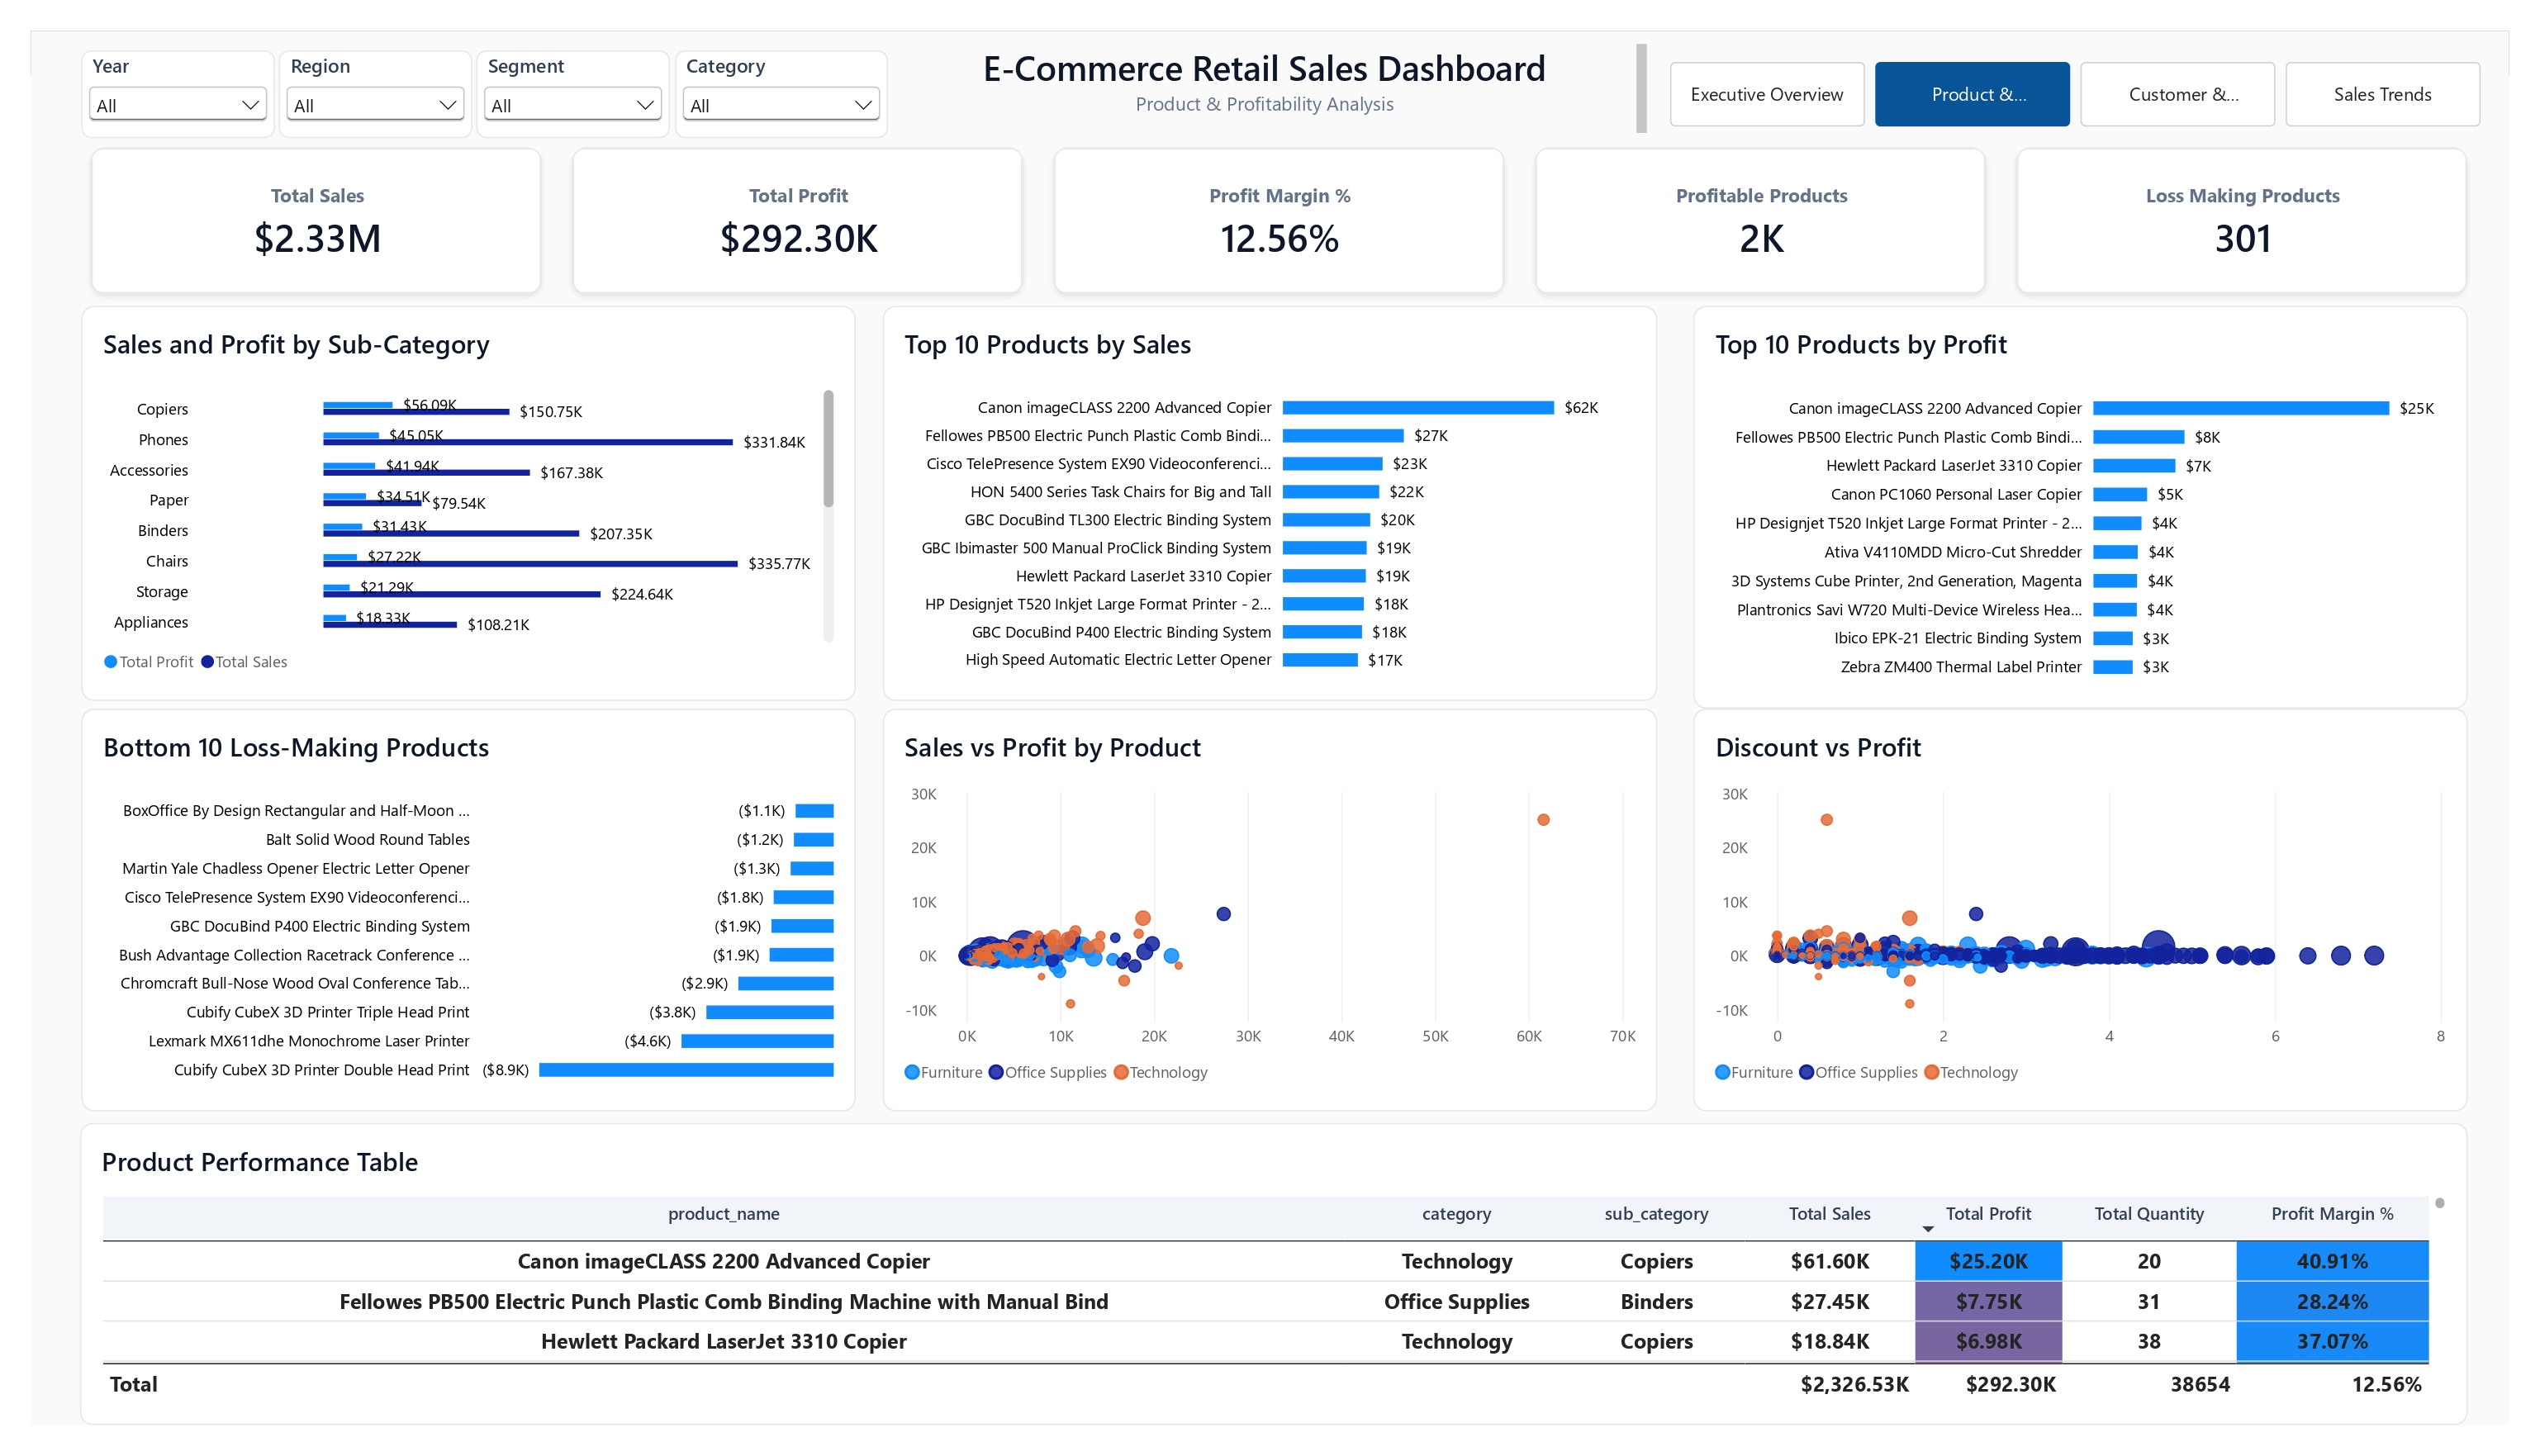

The page's visual inventory and layout, read from the dashboard file:
{"tool":"powerbi","page":{"name":"Product & Profitability","canvas":[1920,1080],"ordinal":1},"visuals":[{"type":"textbox","box":[667.8,10,584.5,72],"z":0},{"type":"clusteredBarChart","title":"Sales and Profit by Sub-Category","fields":{"Category":["superstore_cleaned.sub_category"],"Y":["_Measures.Total Profit","_Measures.Total Sales"]},"box":[39,213,600,306],"z":1000},{"type":"clusteredBarChart","title":"Top 10 Products by Sales","fields":{"Category":["superstore_cleaned.product_name"],"Y":["_Measures.Total Sales"]},"box":[660,213,600,306],"z":2000},{"type":"clusteredBarChart","title":"Top 10 Products by Profit","fields":{"Category":["superstore_cleaned.product_name"],"Y":["_Measures.Total Profit"]},"box":[1288,213,600,312],"z":3000},{"type":"clusteredBarChart","title":"Bottom 10 Loss-Making Products","fields":{"Category":["superstore_cleaned.product_name"],"Y":["_Measures.Total Profit"]},"box":[38.8,525.4,600,312],"z":4000},{"type":"scatterChart","title":"Discount vs Profit","fields":{"Category":["superstore_cleaned.product_name"],"Series":["superstore_cleaned.category"],"Size":["Sum(superstore_cleaned.quantity)"],"X":["Sum(superstore_cleaned.discount)"],"Y":["Sum(superstore_cleaned.profit)"]},"box":[1287.5,525.4,600,312],"z":5000},{"type":"scatterChart","title":"Sales vs Profit by Product","fields":{"Category":["superstore_cleaned.product_name"],"Series":["superstore_cleaned.category"],"Size":["Sum(superstore_cleaned.quantity)"],"X":["superstore_cleaned.sales"],"Y":["Sum(superstore_cleaned.profit)"]},"box":[660,525.4,600,312],"z":6000},{"type":"cardVisual","fields":{"Data":["_Measures.Total Sales"]},"box":[46,90,350,114],"z":7000},{"type":"cardVisual","fields":{"Data":["_Measures.Total Profit"]},"box":[419,90,350,114],"z":8000},{"type":"cardVisual","fields":{"Data":["_Measures.Loss Making Products"]},"box":[1538,90,350,114],"z":9000},{"type":"cardVisual","fields":{"Data":["_Measures.Profitable Products"]},"box":[1165,90,350,114],"z":10000},{"type":"tableEx","title":"Product Performance Table","fields":{"Values":["superstore_cleaned.product_name","superstore_cleaned.category","superstore_cleaned.sub_category","_Measures.Total Sales","_Measures.Total Profit","_Measures.Total Quantity","_Measures.Profit Margin %"]},"box":[38,846,1850,234],"z":11000},{"type":"cardVisual","fields":{"Data":["_Measures.Profit Margin %"]},"box":[792,90,350,114],"z":12000},{"type":"slicer","fields":{"Values":["DateTable.Year"]},"box":[38.6,14.7,150,68.6],"z":13000},{"type":"slicer","fields":{"Values":["superstore_cleaned.region"]},"box":[191.9,15,150,68],"z":14000},{"type":"slicer","fields":{"Values":["superstore_cleaned.segment"]},"box":[345.2,15,150,68],"z":15000},{"type":"slicer","fields":{"Values":["superstore_cleaned.category"]},"box":[498.6,15.4,165.7,67.1],"z":16000},{"type":"pageNavigator","box":[1270,24,630,50],"z":16001}]}

Visuals, with their boxes on the page's 1920x1080 design canvas (x1, y1, x2, y2). These are canvas units, not pixel positions in the 2540x1456 screenshot, which may show the page scaled, cropped or inside an application window:
textbox: detection(668, 10, 1252, 82)
"Sales and Profit by Sub-Category" clusteredBarChart: detection(39, 213, 639, 519)
"Top 10 Products by Sales" clusteredBarChart: detection(660, 213, 1260, 519)
"Top 10 Products by Profit" clusteredBarChart: detection(1288, 213, 1888, 525)
"Bottom 10 Loss-Making Products" clusteredBarChart: detection(39, 525, 639, 837)
"Discount vs Profit" scatterChart: detection(1288, 525, 1888, 837)
"Sales vs Profit by Product" scatterChart: detection(660, 525, 1260, 837)
cardVisual - _Measures.Total Sales: detection(46, 90, 396, 204)
cardVisual - _Measures.Total Profit: detection(419, 90, 769, 204)
cardVisual - _Measures.Loss Making Products: detection(1538, 90, 1888, 204)
cardVisual - _Measures.Profitable Products: detection(1165, 90, 1515, 204)
"Product Performance Table" tableEx: detection(38, 846, 1888, 1080)
cardVisual - _Measures.Profit Margin %: detection(792, 90, 1142, 204)
slicer - DateTable.Year: detection(39, 15, 189, 83)
slicer - superstore_cleaned.region: detection(192, 15, 342, 83)
slicer - superstore_cleaned.segment: detection(345, 15, 495, 83)
slicer - superstore_cleaned.category: detection(499, 15, 664, 82)
pageNavigator: detection(1270, 24, 1900, 74)
